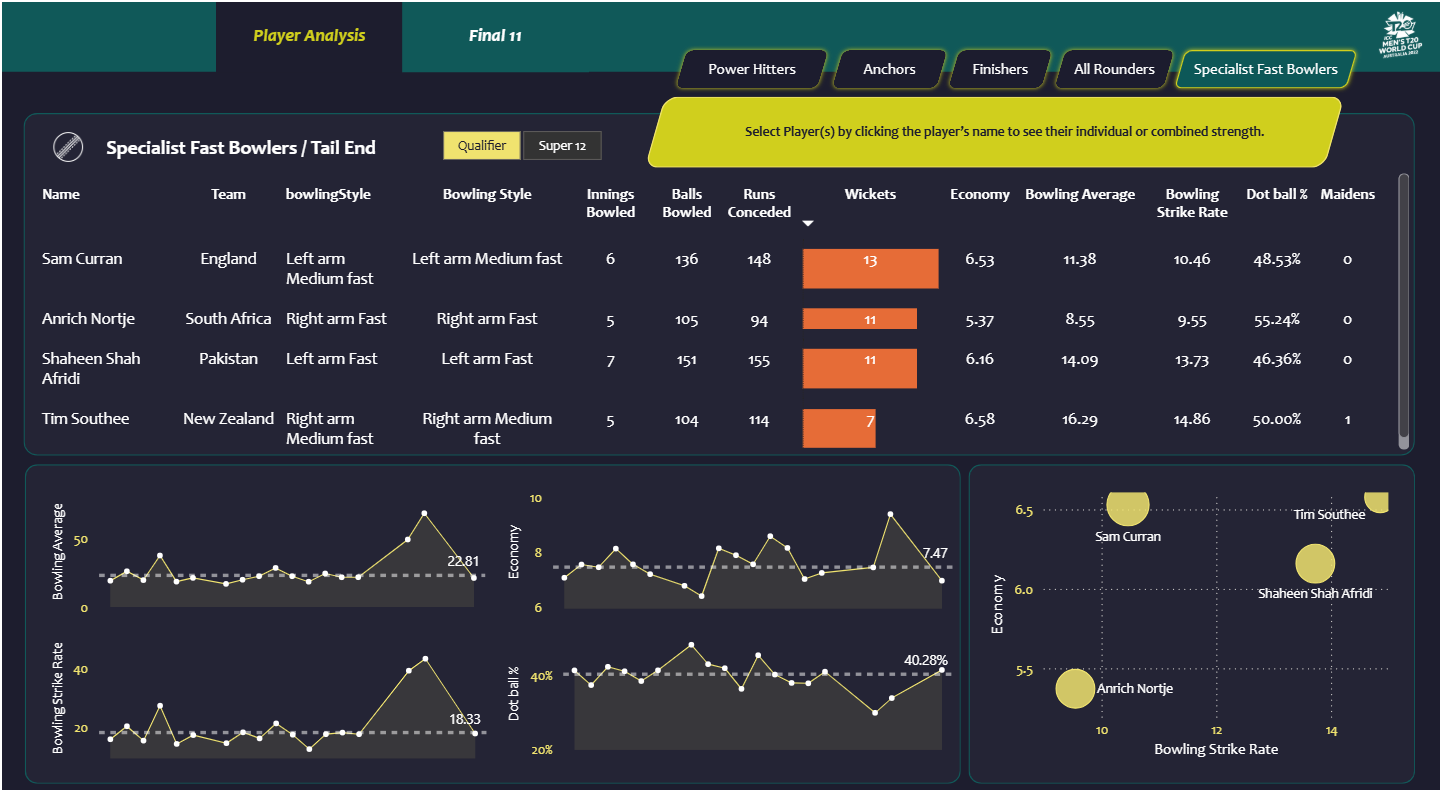

Layout of this report page (visuals, bound fields, positions):
{"tool":"powerbi","page":{"name":"New Specialist Fast Bowlers / Tail End","canvas":[1280,720],"ordinal":4},"visuals":[{"type":"shape","box":[0,66,1280,654],"z":0},{"type":"group","id":"g1","title":"Group 2","box":[83.8,116.2,260,31.2],"z":0,"group":"g2"},{"type":"shape","box":[83.8,116.2,260,31.2],"z":0,"group":"g1"},{"type":"image","box":[38,114,44,36],"z":1000,"group":"g2"},{"type":"shape","box":[21,414,832,284],"z":1000},{"type":"actionButton","title":"Button Anchores","box":[734,42.6,111,42],"z":2000},{"type":"actionButton","title":"Button  Power Hitters","box":[596,42.6,144,42],"z":3000},{"type":"card","fields":{"Values":["Key_Measures.Bowling Strike Rate"]},"box":[867,89,93,60],"z":3500,"group":"g3"},{"type":"actionButton","title":"Button Finishers","box":[838,42.6,101,42],"z":4000},{"type":"card","fields":{"Values":["Key_Measures.Bowling Average"]},"box":[768,89,92,60],"z":4000,"group":"g3"},{"type":"card","fields":{"Values":["Key_Measures.Dot ball %"]},"box":[1073,89,100,60],"z":4500,"group":"g3"},{"type":"actionButton","title":"Button All Rounders","box":[932,42.6,115,42],"z":5000},{"type":"card","fields":{"Values":["Key_Measures.Economy"]},"box":[966,89,101,60],"z":5000,"group":"g3"},{"type":"actionButton","title":"Button Fast Bowler selected","box":[1039,42.6,171,42],"z":6000},{"type":"image","box":[1220,3,48,59],"z":7000},{"type":"shape","box":[860,414,397,284],"z":9000},{"type":"shape","box":[20,102.2,1236.7,304.4],"z":10000},{"type":"slicer","fields":{"Values":["dim_match_summary.stage"]},"box":[366.7,111.1,191.1,38.9],"z":11000},{"type":"tableEx","fields":{"Values":["dim_player.name","Min(dim_player.team)","dim_player.bowlingStyle","Min(dim_player.Bowling Style)","Key_Measures.Total Innings Bowled","Key_Measures.Balls Bowled","Key_Measures.Runs Conceded","Key_Measures.wickets","Key_Measures.Economy","Key_Measures.Bowling Average","Key_Measures.Bowling Strike Rate","Key_Measures.Dot ball %"]},"box":[26,151,1231,255],"z":12000},{"type":"shape","box":[572,88,622,63],"z":13000},{"type":"group","id":"g2","title":"Group 1","box":[38,114,305.8,36],"z":15000},{"type":"scatterChart","fields":{"Category":["dim_player.name"],"X":["Key_Measures.Bowling Strike Rate"],"Y":["Key_Measures.Economy"],"Size":["Key_Measures.wickets"]},"box":[874,427,370,253.8],"z":16000},{"type":"actionButton","title":"Button Player Ana selected","box":[191,0,166,66],"z":17000},{"type":"actionButton","title":"Button Player Ana selected","box":[357,0,166,66],"z":18000},{"type":"areaChart","fields":{"Category":["dim_match_summary.Match_Date.Variation.Date Hierarchy.Day"],"Y":["Key_Measures.Economy"]},"box":[446,430,406,126],"z":19000},{"type":"areaChart","fields":{"Category":["dim_match_summary.Match_Date.Variation.Date Hierarchy.Day"],"Y":["Key_Measures.Dot ball %"]},"box":[446,556,406,126],"z":20000},{"type":"areaChart","fields":{"Category":["dim_match_summary.Match_Date.Variation.Date Hierarchy.Day"],"Y":["Key_Measures.Bowling Average"]},"box":[40,428.9,395.6,126.7],"z":21000},{"type":"areaChart","fields":{"Category":["dim_match_summary.Match_Date.Variation.Date Hierarchy.Day"],"Y":["Key_Measures.Bowling Strike Rate"]},"box":[40,555.6,396.7,125.6],"z":22000},{"type":"shape","box":[595,103,173,34],"z":25000},{"type":"group","id":"g3","title":"Combined Perfoamce Metrices","box":[768,89,405,60],"z":25500},{"type":"shape","box":[612,100,560,36],"z":26001}]}

Visuals, with their boxes in screenshot pixels (x1, y1, x2, y2), scaled from the page's 1280x720 canvas onto the 1442x792 screenshot:
shape: <region>0, 73, 1441, 791</region>
"Group 2" group: <region>94, 128, 387, 162</region>
shape: <region>94, 128, 387, 162</region>
image: <region>43, 125, 92, 165</region>
shape: <region>24, 455, 961, 768</region>
"Button Anchores" actionButton: <region>827, 47, 952, 93</region>
"Button  Power Hitters" actionButton: <region>671, 47, 834, 93</region>
card - Key_Measures.Bowling Strike Rate: <region>977, 98, 1082, 164</region>
"Button Finishers" actionButton: <region>944, 47, 1058, 93</region>
card - Key_Measures.Bowling Average: <region>865, 98, 969, 164</region>
card - Key_Measures.Dot ball %: <region>1209, 98, 1321, 164</region>
"Button All Rounders" actionButton: <region>1050, 47, 1180, 93</region>
card - Key_Measures.Economy: <region>1088, 98, 1202, 164</region>
"Button Fast Bowler selected" actionButton: <region>1170, 47, 1363, 93</region>
image: <region>1374, 3, 1428, 68</region>
shape: <region>969, 455, 1416, 768</region>
shape: <region>23, 112, 1416, 447</region>
slicer - dim_match_summary.stage: <region>413, 122, 628, 165</region>
tableEx - dim_player.name x Min(dim_player.team): <region>29, 166, 1416, 447</region>
shape: <region>644, 97, 1345, 166</region>
"Group 1" group: <region>43, 125, 387, 165</region>
scatterChart - dim_player.name x Key_Measures.Bowling Strike Rate: <region>985, 470, 1401, 749</region>
"Button Player Ana selected" actionButton: <region>215, 0, 402, 73</region>
"Button Player Ana selected" actionButton: <region>402, 0, 589, 73</region>
areaChart - dim_match_summary.Match_Date.Variation.Date Hierarchy.Day x Key_Measures.Economy: <region>502, 473, 960, 612</region>
areaChart - dim_match_summary.Match_Date.Variation.Date Hierarchy.Day x Key_Measures.Dot ball %: <region>502, 612, 960, 750</region>
areaChart - dim_match_summary.Match_Date.Variation.Date Hierarchy.Day x Key_Measures.Bowling Average: <region>45, 472, 491, 611</region>
areaChart - dim_match_summary.Match_Date.Variation.Date Hierarchy.Day x Key_Measures.Bowling Strike Rate: <region>45, 611, 492, 749</region>
shape: <region>670, 113, 865, 151</region>
"Combined Perfoamce Metrices" group: <region>865, 98, 1321, 164</region>
shape: <region>689, 110, 1320, 150</region>
